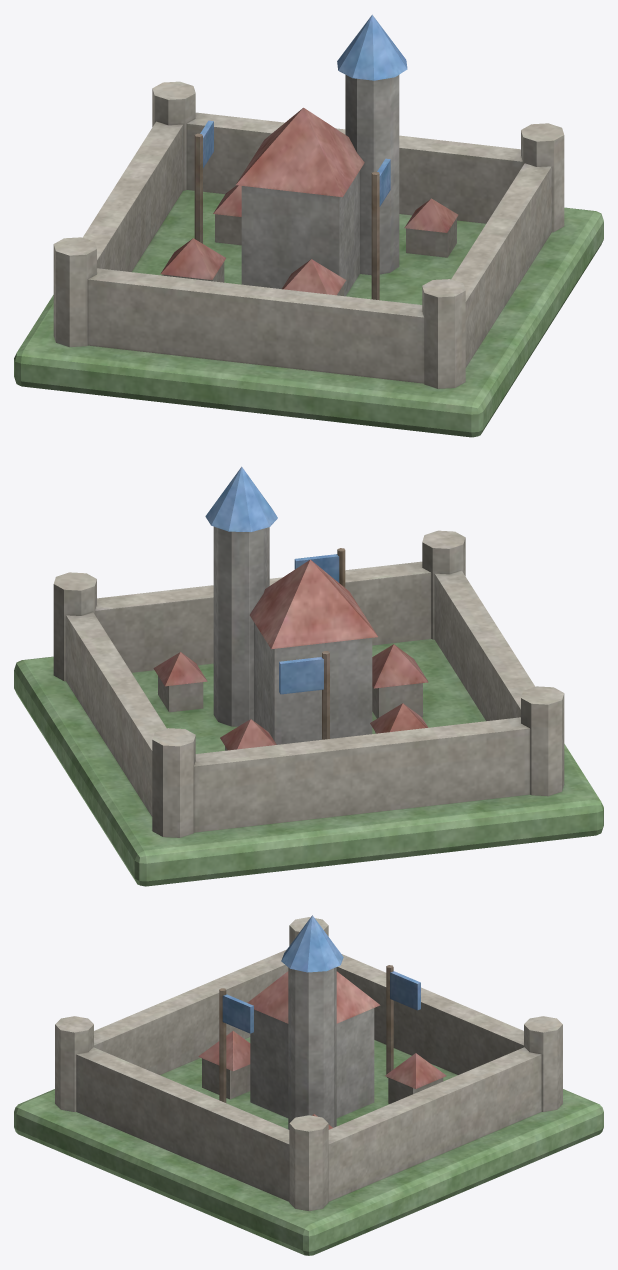
File: capital_aldar.glb
3 renders of one model, top to bottom at view 1: azimuth 30°, elevation 25°; view 2: azimuth 150°, elevation 25°; view 3: azimuth 270°, elevation 25°, orthographic. The views are drawn at different scales.
Visible parts, largest first — view 1: dilek; view 2: dilek; view 3: dilek.
Part boxes in pixels (<box>): dilek: <box>14,14,603,437</box>; dilek: <box>14,466,603,886</box>; dilek: <box>14,915,603,1255</box>.
Bounding box in the file's own units: 2.42 × 1.12 × 2.42.
Materials: 1 (1 with a texture image).
